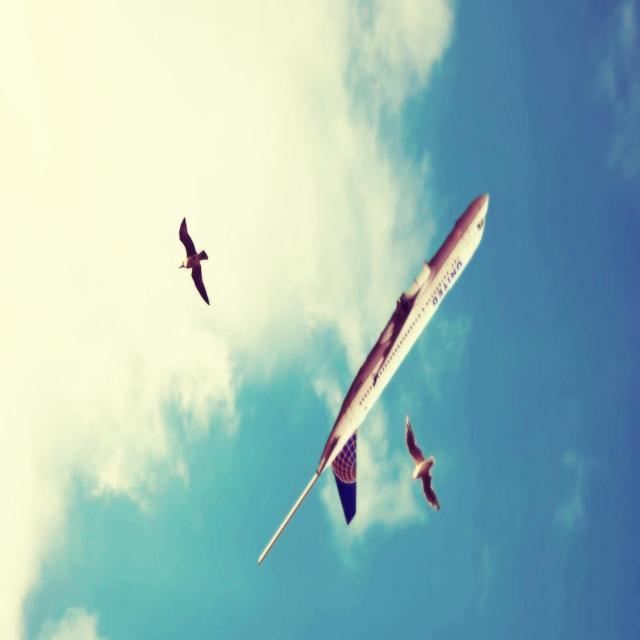airplane: (258, 192, 489, 566)
